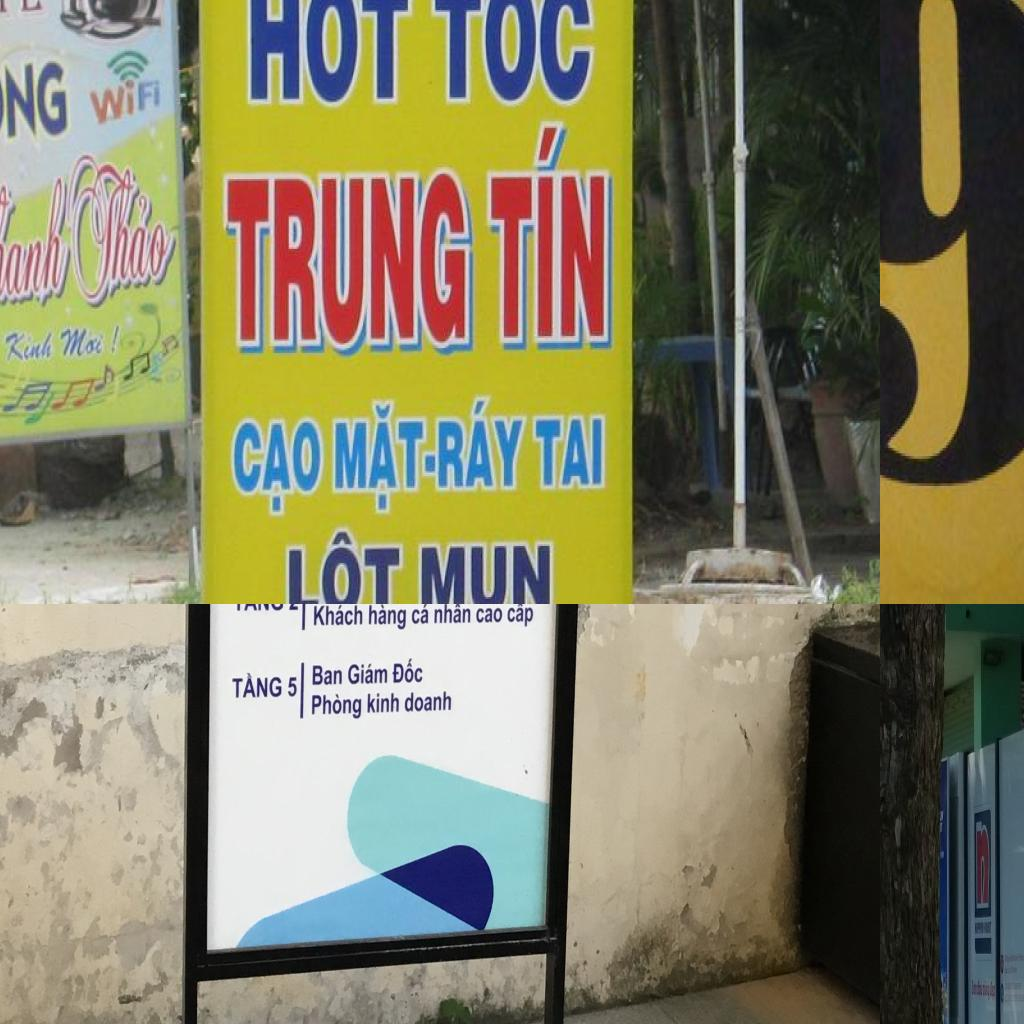text: (880, 0, 1024, 491), (226, 167, 472, 355), (488, 123, 612, 348), (431, 0, 595, 107), (68, 154, 176, 316), (246, 0, 415, 103), (332, 399, 428, 519), (0, 168, 72, 327), (231, 416, 325, 519), (436, 394, 535, 491), (285, 527, 403, 604), (419, 542, 553, 604), (0, 42, 71, 146), (531, 416, 605, 490), (89, 75, 161, 128), (3, 329, 56, 365), (310, 691, 362, 721), (60, 326, 107, 358), (231, 671, 284, 699), (367, 604, 406, 632), (312, 604, 363, 625), (347, 662, 388, 685), (393, 658, 424, 685), (312, 661, 343, 687), (433, 604, 471, 624), (366, 693, 400, 713), (507, 604, 533, 629), (475, 606, 503, 624), (111, 322, 124, 360), (232, 604, 283, 612), (410, 604, 428, 625), (286, 675, 298, 699), (288, 604, 301, 612)
